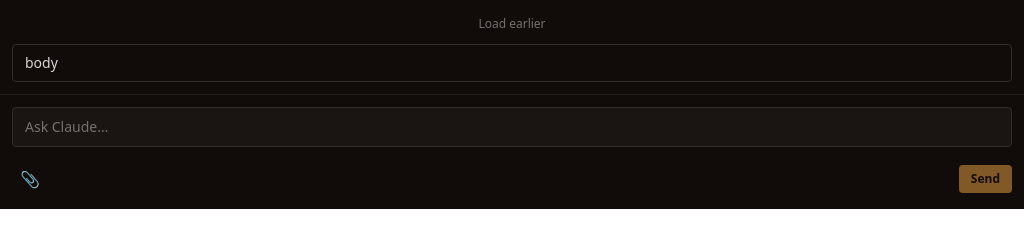
ChatPanel › lazy load › marks history exhausted when loader returns empty array
Click the button with test id "load-earlier-button" at (512, 24), box [478,16,546,32]
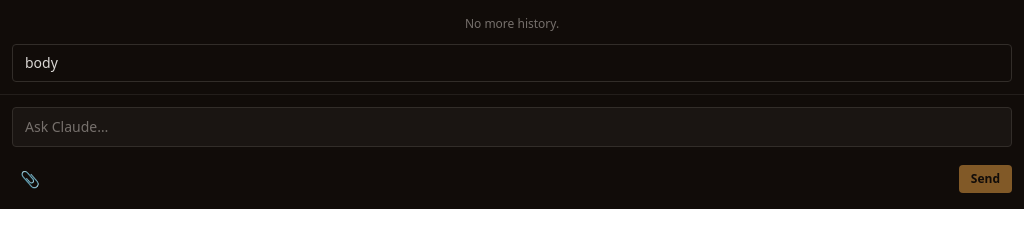
Check: the text "No more history." is shown, box [465,16,559,32]
Check: the button with test id "load-earlier-button" is gone
